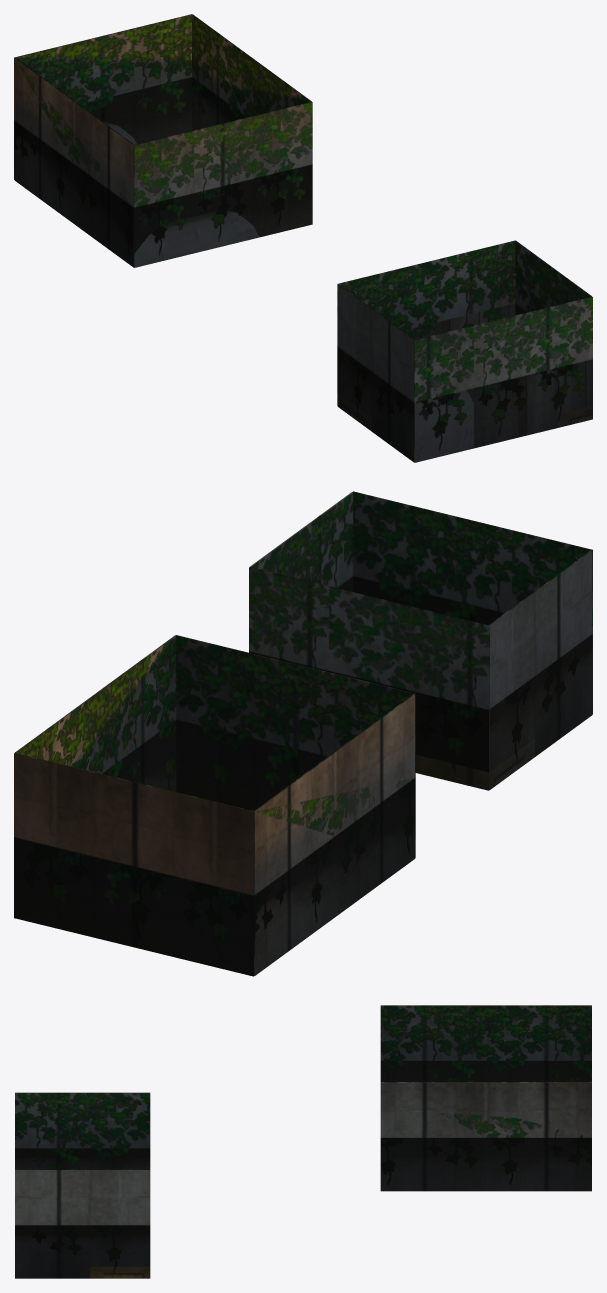
Rendered from leaves.fbx.
The picture shows the model from 3 angles, top to bottom: view 1: azimuth 30°, elevation 25°; view 2: azimuth 150°, elevation 25°; view 3: azimuth 270°, elevation 25°; orthographic projection. The views are drawn at different scales.
Parts seen in each view (by area): view 1: leaves; view 2: leaves; view 3: leaves.
Part boxes in pixels (x1=…): leaves: x1=14, y1=14, x2=592, y2=462; leaves: x1=14, y1=491, x2=592, y2=976; leaves: x1=15, y1=1005, x2=591, y2=1278.
Bounding box in the file's own units: 942 × 658 × 2107.
